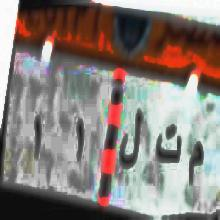1: (32, 111, 45, 167), (74, 112, 86, 168)
laam: (118, 103, 143, 175)
meem: (187, 134, 203, 190)
taa: (155, 119, 182, 172)
